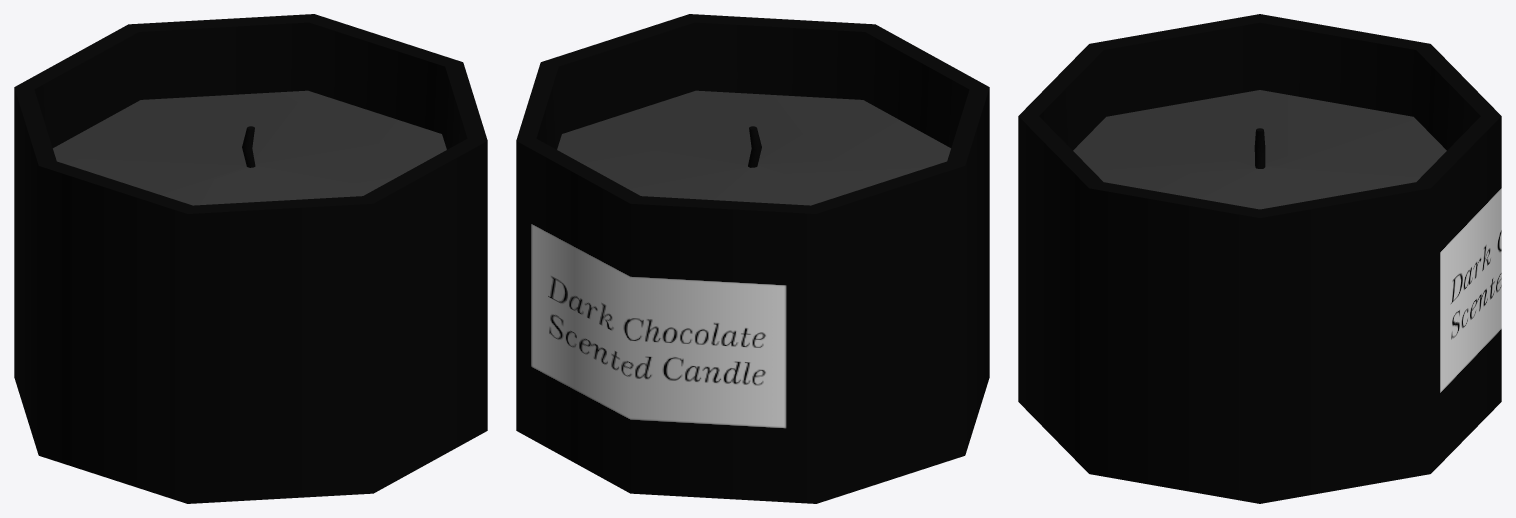
The model's file is furniture_decor_210012.glb.
3 renders of one model, left to right at view 1: azimuth 30°, elevation 25°; view 2: azimuth 150°, elevation 25°; view 3: azimuth 270°, elevation 25°, orthographic.
Parts seen in each view (by area): view 1: furniture_decor_210012; view 2: furniture_decor_210012; view 3: furniture_decor_210012.
Boxes of the visible parts, box(x1,y1,x2,y2) form: furniture_decor_210012: box(14, 14, 487, 503); furniture_decor_210012: box(516, 14, 989, 503); furniture_decor_210012: box(1018, 14, 1501, 503).
Size of the model in its own units: 0.1295 by 0.0845 by 0.1295.
1 material, 1 textured.
